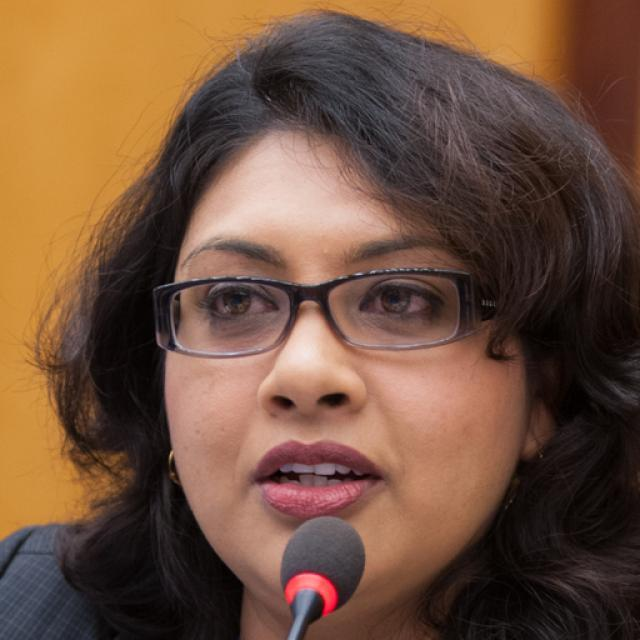disgust: (162, 113, 536, 632)
